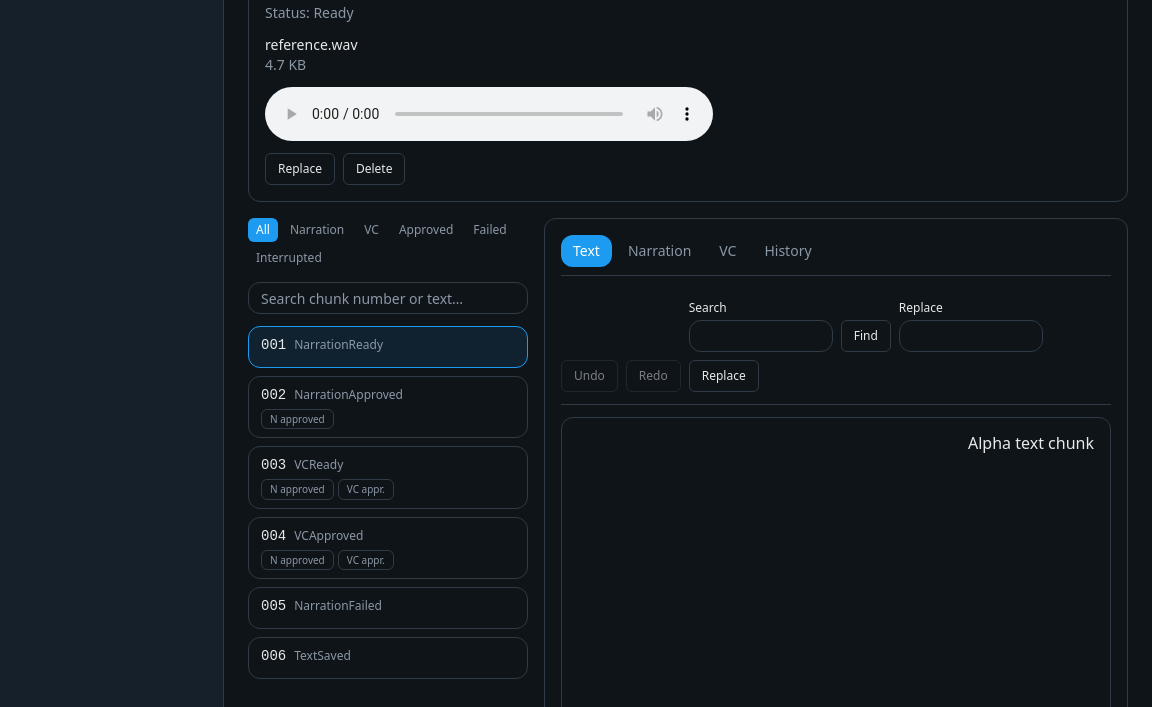
it: E8.1-C Part Workspace › 7. queue narration from narration tab
The image size is (1152, 707).
(page scrolled)
Click the button with test id "chunk-row-1": {"x": 339, "y": 344} [248,326,528,368]
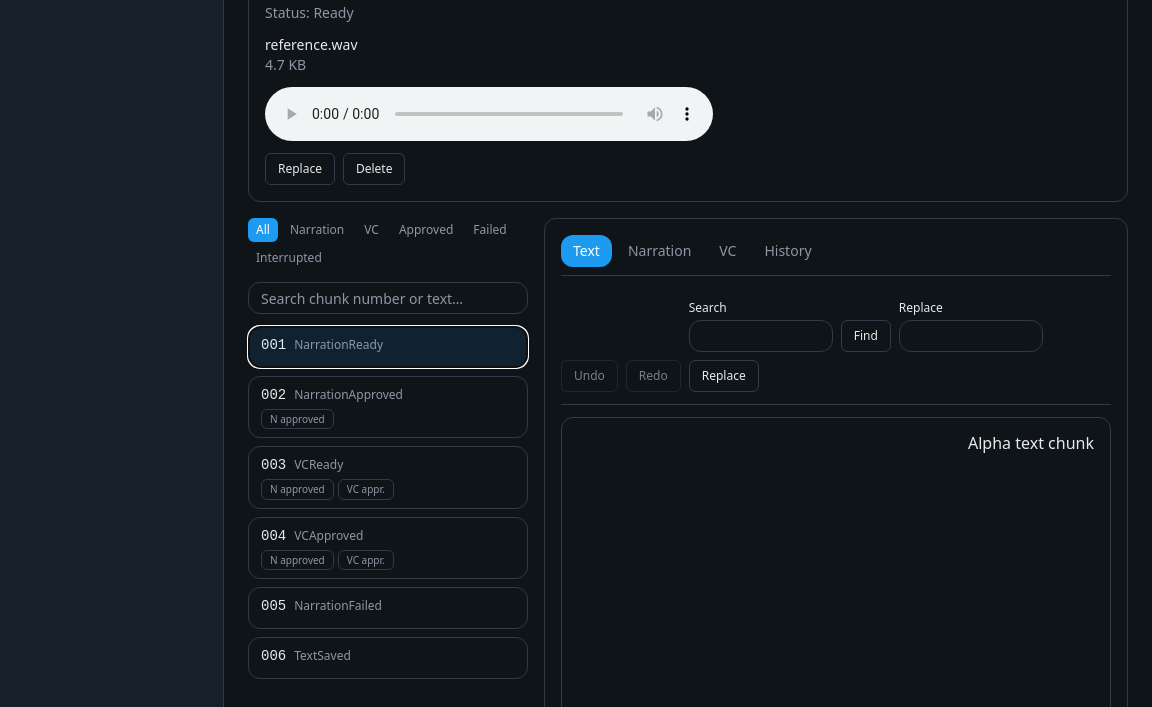
Click the tab "Narration": {"x": 660, "y": 251} [616,235,703,267]
(page scrolled)
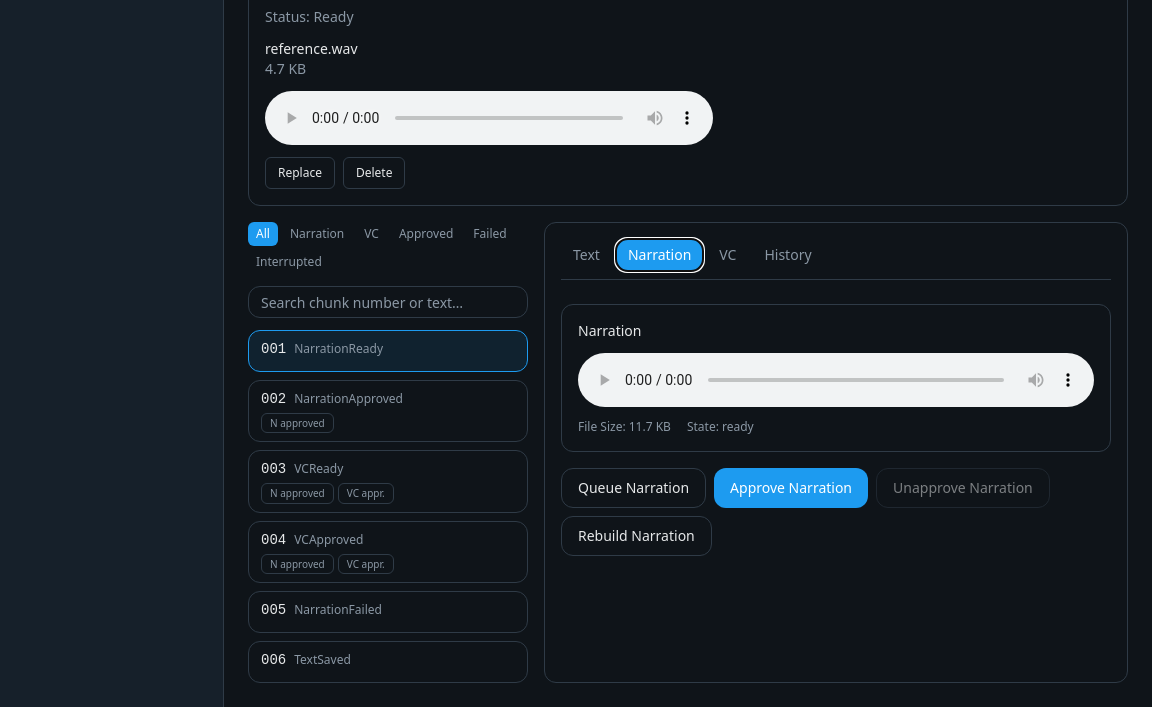
expect the element with test id "narration-tab" is shown: met, box [561,304,1111,556]
Click the button "Queue Narration": {"x": 634, "y": 488} [561,468,706,508]
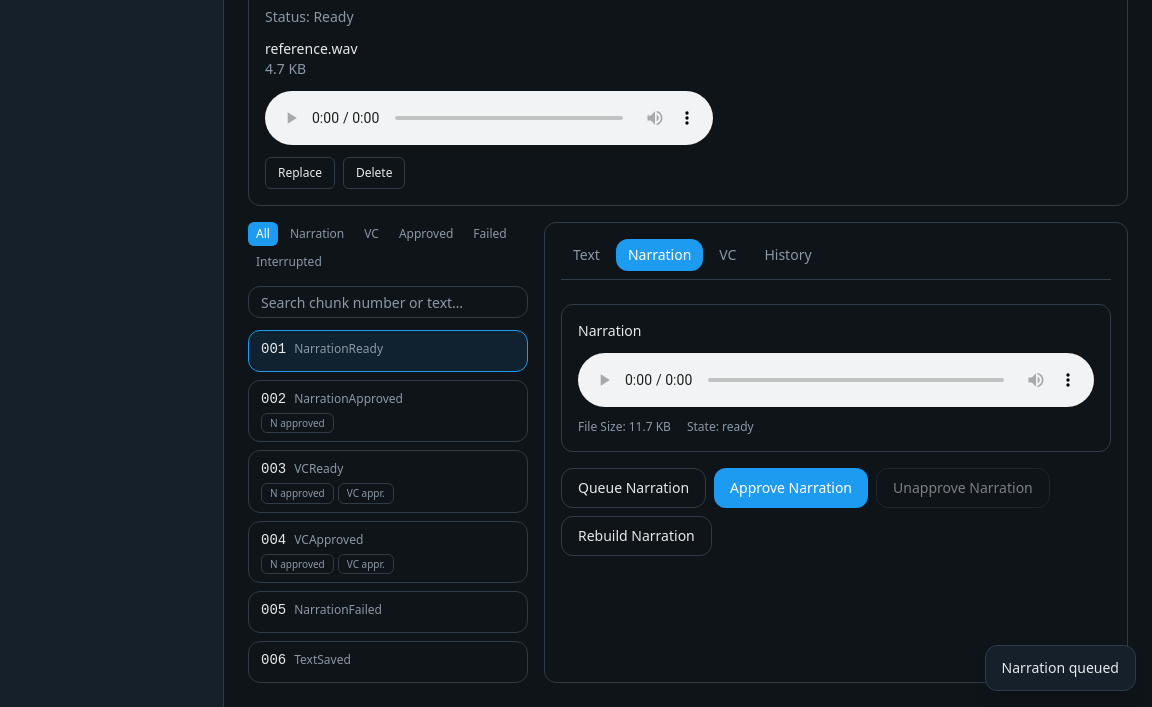
expect the text "Narration queued" is shown: met, box [1002,658,1119,678]
